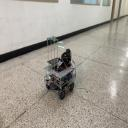cart: (43, 60, 77, 100)
